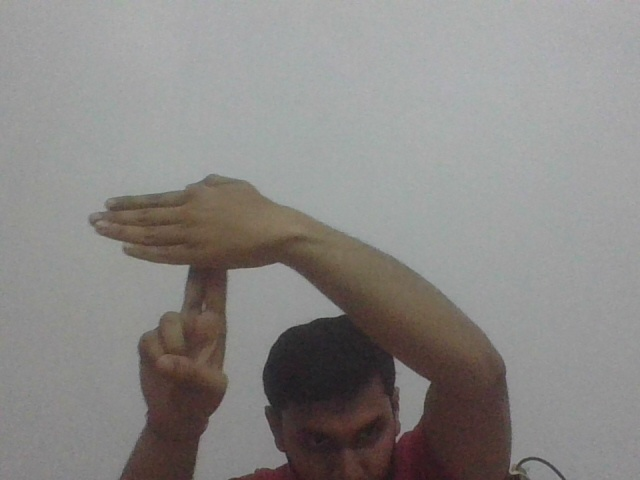N: (85, 171, 283, 311)
